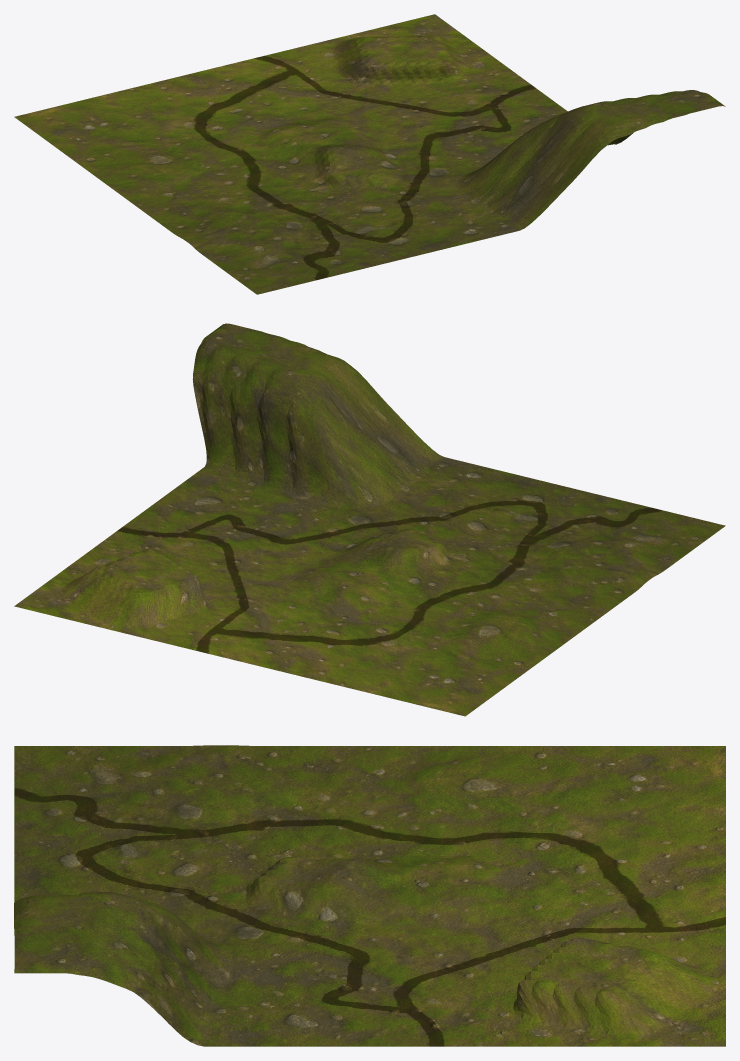
File: Elevated_Terrain_Test.fbx
The picture shows the model from 3 angles, top to bottom: view 1: azimuth 30°, elevation 25°; view 2: azimuth 150°, elevation 25°; view 3: azimuth 270°, elevation 25°; orthographic projection. The views are drawn at different scales.
Parts seen in each view (by area): view 1: Plane; view 2: Plane; view 3: Plane.
Part boxes in pixels (box(x1,y1,x2,y2)): Plane: box(14, 14, 725, 294); Plane: box(14, 323, 725, 716); Plane: box(14, 745, 725, 1046).
Size of the model in its own units: 223 by 34.33 by 200.
1 material, 1 textured.
